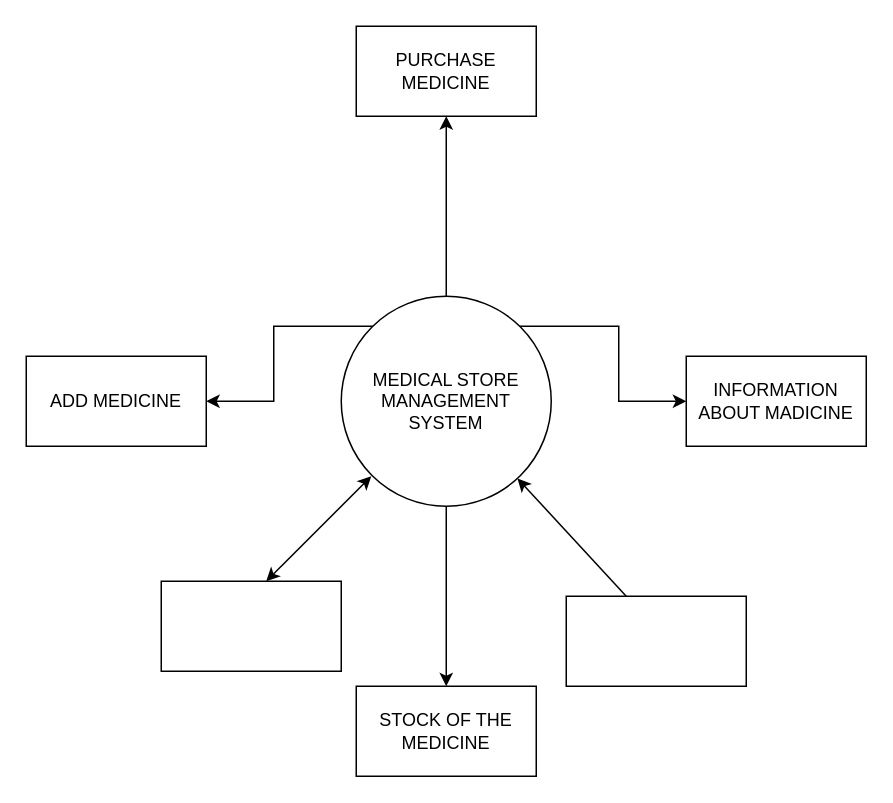
The diagram is 893 pixels wide and 803 high, and some of its shapes have lost their labels. The shapes that lost their labels are listed below. From the top down, each one's centre as x and y in pixels, then its label:
At [250,625]: "DELETE MEDICINE".
At [655,640]: "CHANGE MEDICINE DETAILS".
